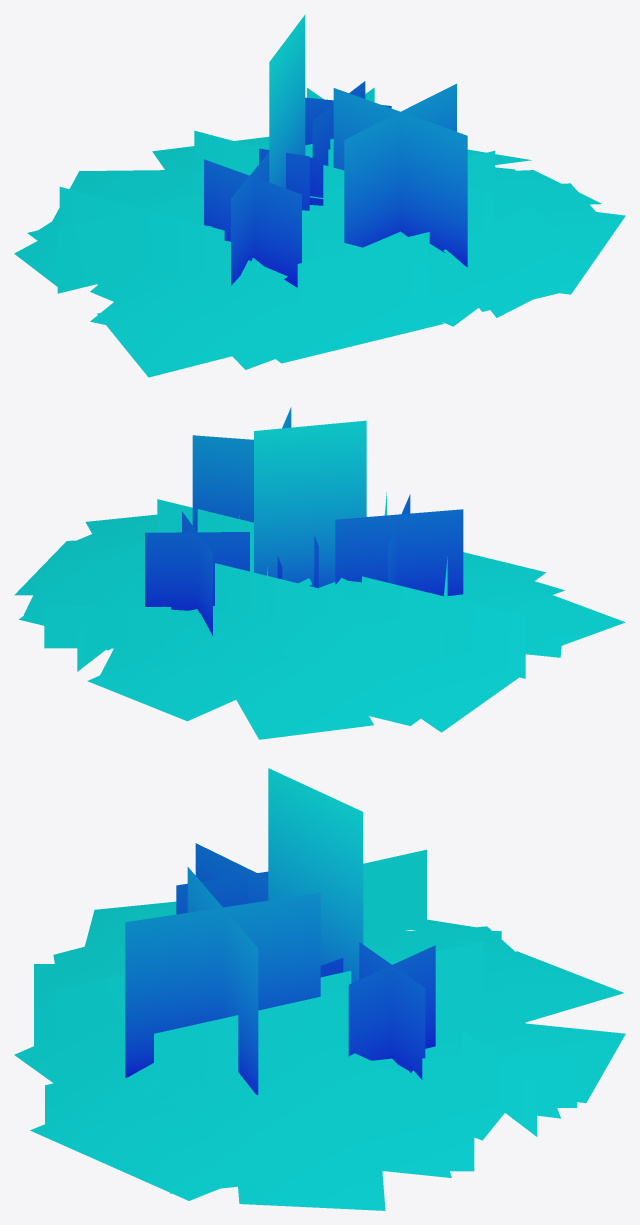
File: SM_Env_GroundCover_02.fbx
3 renders of one model, top to bottom at view 1: azimuth 30°, elevation 25°; view 2: azimuth 150°, elevation 25°; view 3: azimuth 270°, elevation 25°, orthographic. The views are drawn at different scales.
Parts seen in each view (by area): view 1: SM_Env_GroundCover_02_LOD0; view 2: SM_Env_GroundCover_02_LOD0; view 3: SM_Env_GroundCover_02_LOD0.
Boxes of the visible parts, bbox=[...] form: SM_Env_GroundCover_02_LOD0: bbox=[14, 14, 625, 377]; SM_Env_GroundCover_02_LOD0: bbox=[14, 407, 625, 739]; SM_Env_GroundCover_02_LOD0: bbox=[14, 768, 625, 1210].
Size of what is drawn, in the model's own units: 240 by 99.17 by 208.
